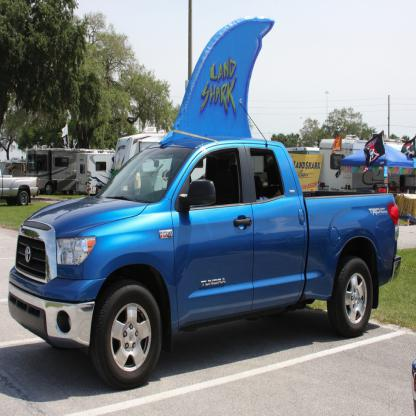Car: (8, 17, 402, 390)
Truck: (8, 138, 401, 389)
